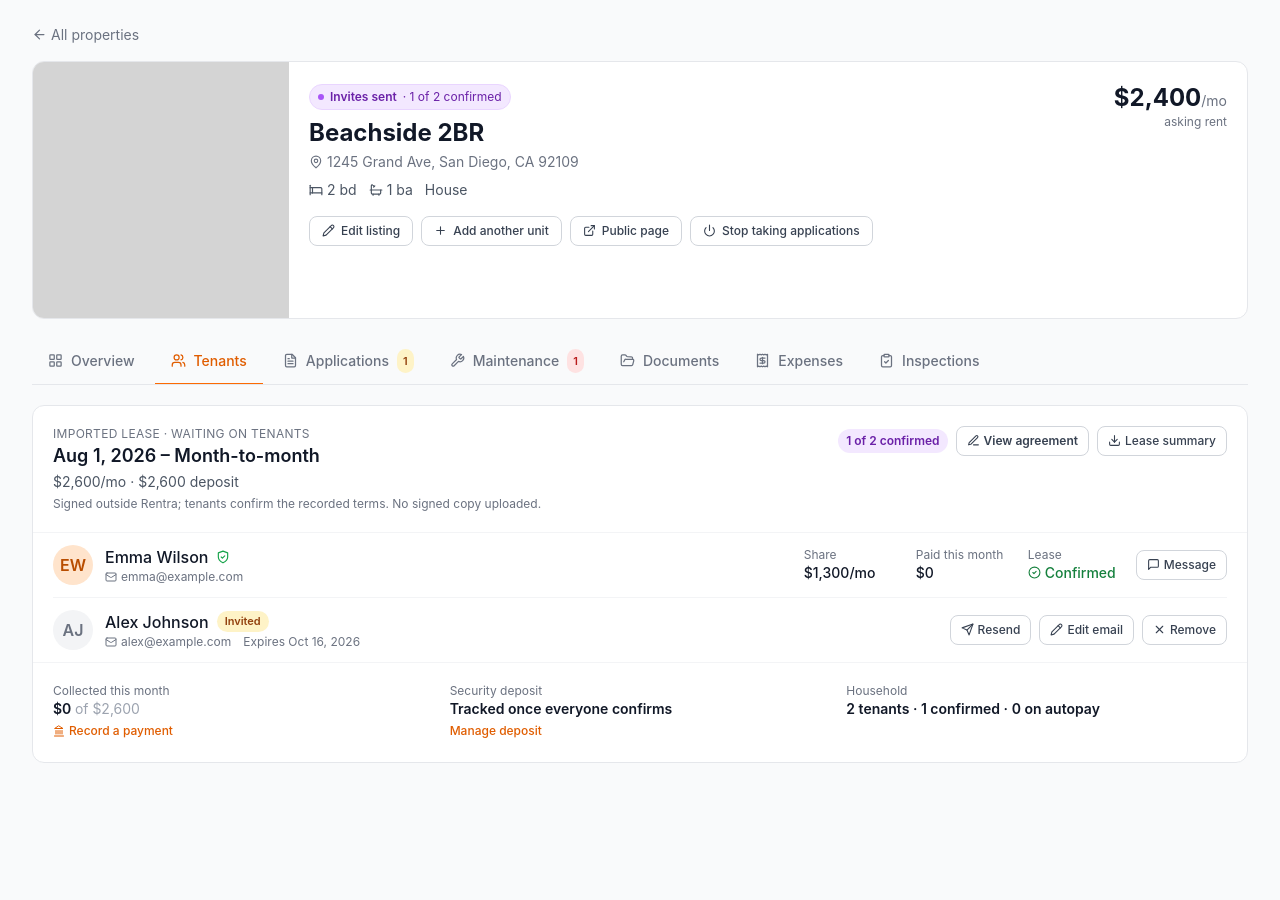
Test: PropertyWorkspace › shows an imported lease with invite progress and resends an invite
Expected: the text "1 of 2 confirmed" is shown, [838,428,948,452]
Expected: the text "Invites sent" is shown, [330,88,397,104]
What coordinates should you click on to do the following:
click the button "Resend"
I would click on:
 (990, 630)
Its box is [950,614,1031,644].
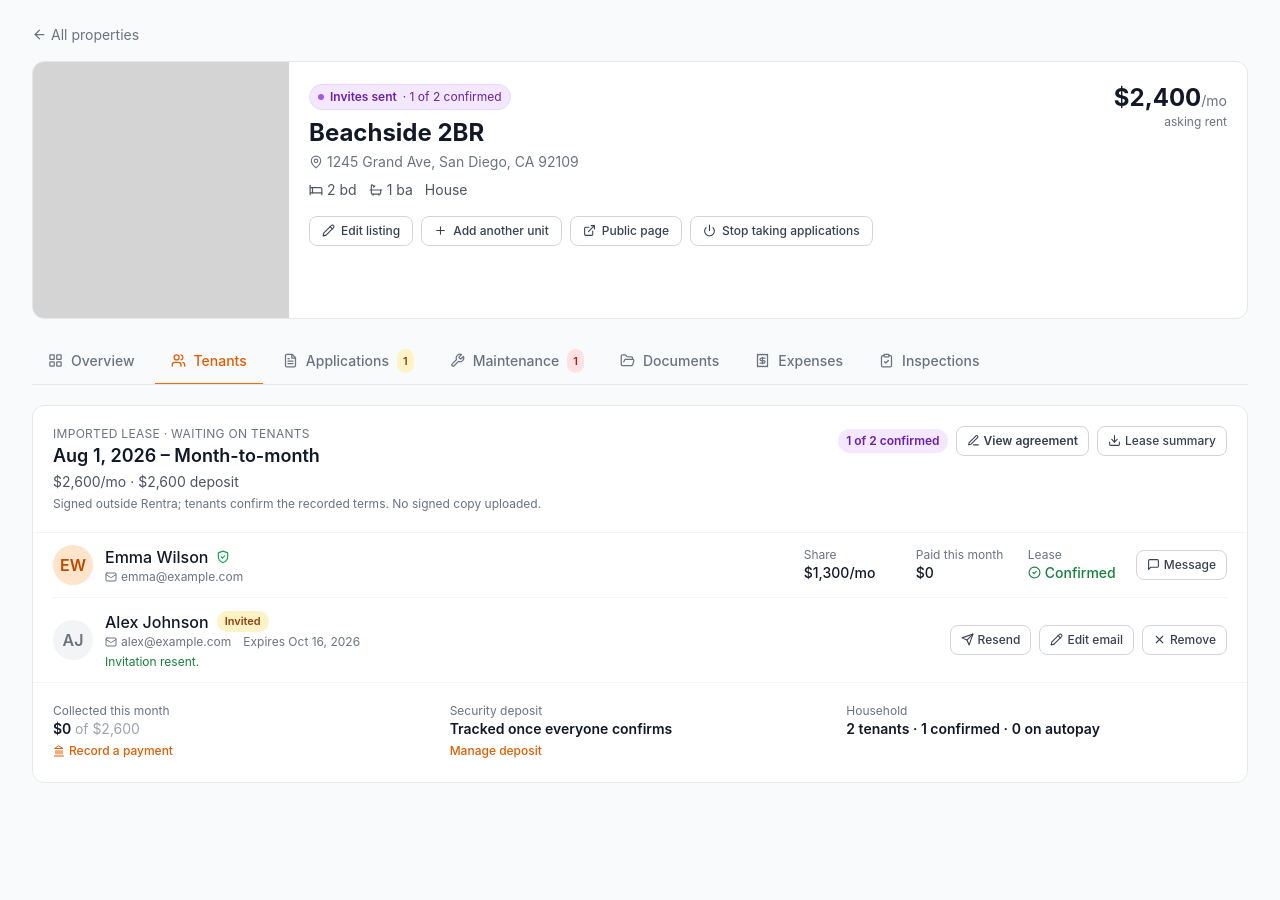
Expected: the text "Invitation resent." is shown, [105,654,199,668]
